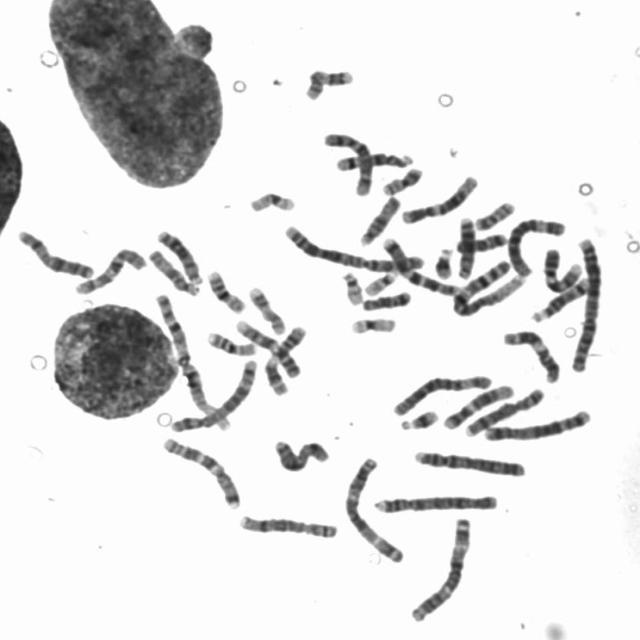A1: (146, 287, 234, 433), (446, 252, 526, 318)
A2: (278, 218, 427, 274), (564, 231, 605, 374)
A3: (338, 450, 408, 564), (404, 511, 475, 623)
B4: (406, 443, 529, 478), (367, 487, 500, 515)
B5: (165, 352, 260, 434), (477, 403, 594, 443)
C10: (68, 241, 148, 297), (317, 125, 375, 198)
C11: (258, 319, 311, 397), (497, 323, 562, 384)
C12: (396, 168, 482, 225), (438, 378, 516, 430)
C6: (386, 368, 493, 417), (502, 212, 568, 277)
C7: (155, 431, 243, 510), (376, 230, 461, 296)
C8: (457, 381, 547, 438), (232, 508, 340, 540)
C9: (229, 313, 302, 379), (537, 241, 585, 294)
D13: (151, 223, 205, 287), (451, 211, 478, 279)
D14: (526, 272, 593, 324), (329, 145, 416, 172)
D15: (142, 241, 203, 297), (353, 189, 403, 247)
E16: (201, 263, 247, 315), (200, 324, 258, 357)
E17: (243, 280, 288, 335), (298, 61, 356, 102)
E18: (449, 227, 509, 254), (356, 284, 413, 312)
F19: (243, 184, 298, 213), (344, 310, 399, 336)
F20: (376, 160, 426, 196), (468, 195, 518, 231)
G21: (394, 403, 441, 431), (428, 242, 455, 281)
G22: (334, 265, 366, 306), (358, 265, 400, 296)
X: (11, 223, 97, 280), (267, 432, 333, 473)
